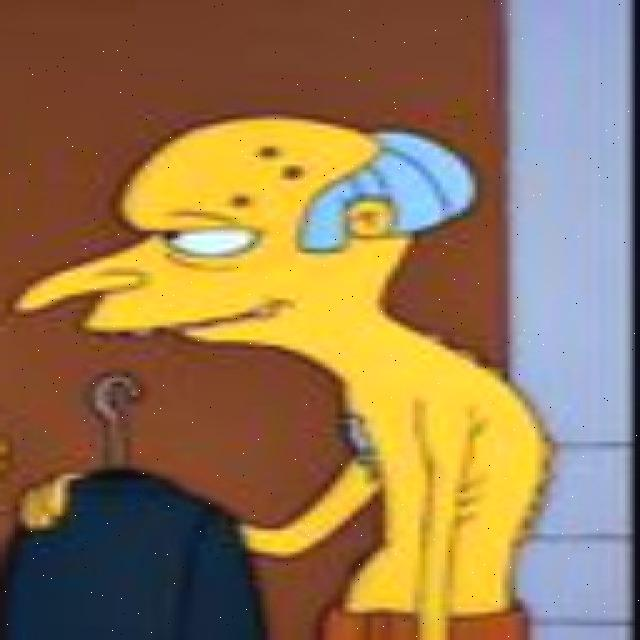Charles Montgomery Burns: (11, 117, 484, 359)
